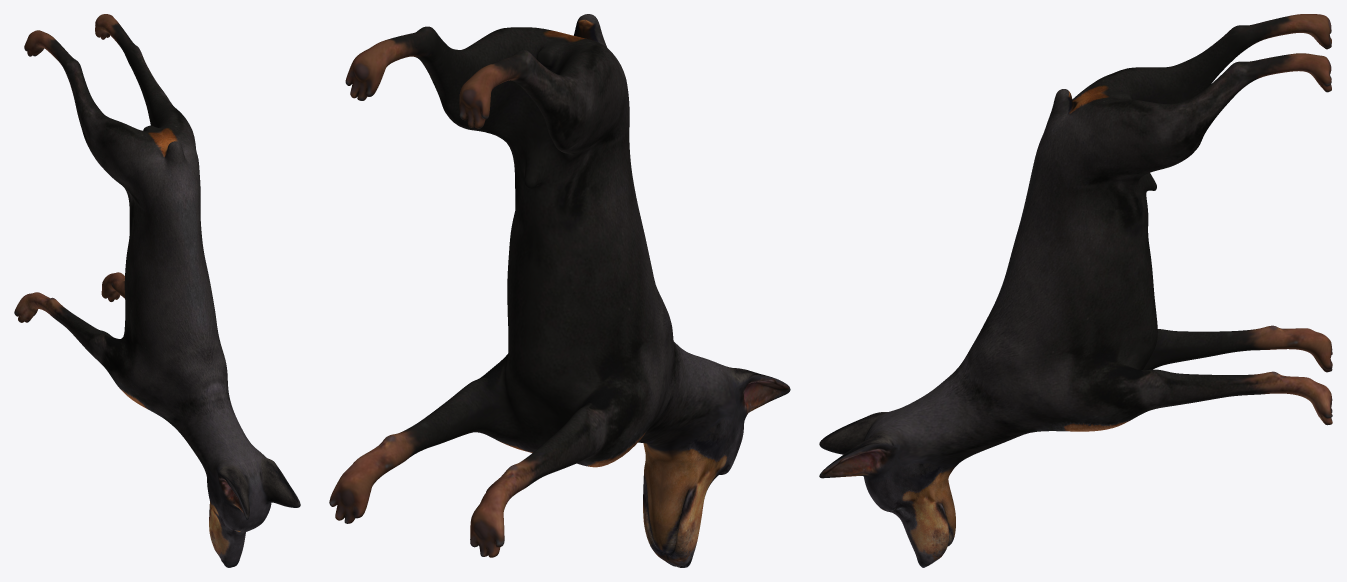
File: doberman.glb
The picture shows the model from 3 angles, left to right: view 1: azimuth 30°, elevation 25°; view 2: azimuth 150°, elevation 25°; view 3: azimuth 270°, elevation 25°; orthographic projection. The views are drawn at different scales.
Visible parts, largest first — view 1: 13044_Doberman_Pinscher_v1_l3; view 2: 13044_Doberman_Pinscher_v1_l3; view 3: 13044_Doberman_Pinscher_v1_l3.
Part boxes in pixels (left/top/right/bottom): 13044_Doberman_Pinscher_v1_l3: left=14, top=14, right=300, bottom=567; 13044_Doberman_Pinscher_v1_l3: left=329, top=14, right=790, bottom=567; 13044_Doberman_Pinscher_v1_l3: left=819, top=14, right=1332, bottom=567.
Bounding box in the file's own units: 22.04 × 83.97 × 73.46.
Materials: 1 (1 with a texture image).
